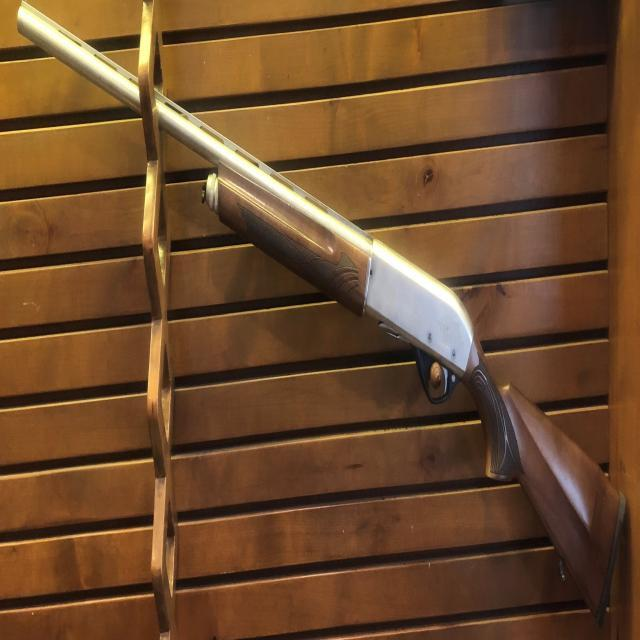shotgun: (1, 0, 640, 624)
